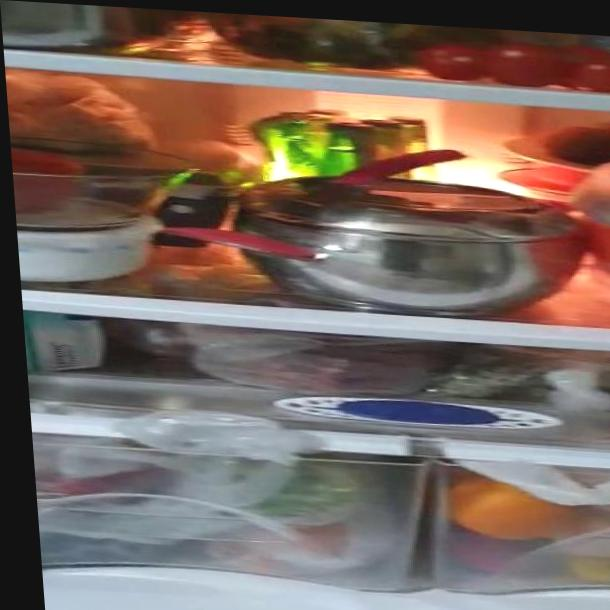mineral water: (266, 105, 385, 172)
orange: (451, 474, 579, 541)
tomato: (429, 35, 610, 91)
